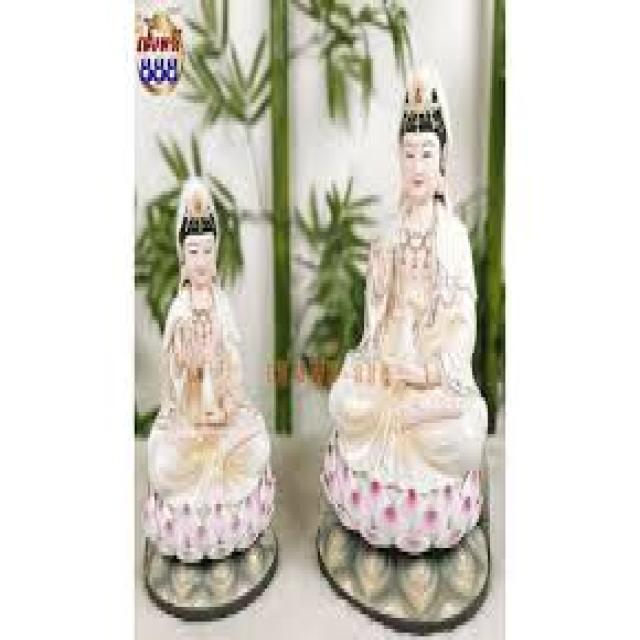Guan Yin: (368, 59, 466, 435), (161, 179, 244, 484)
